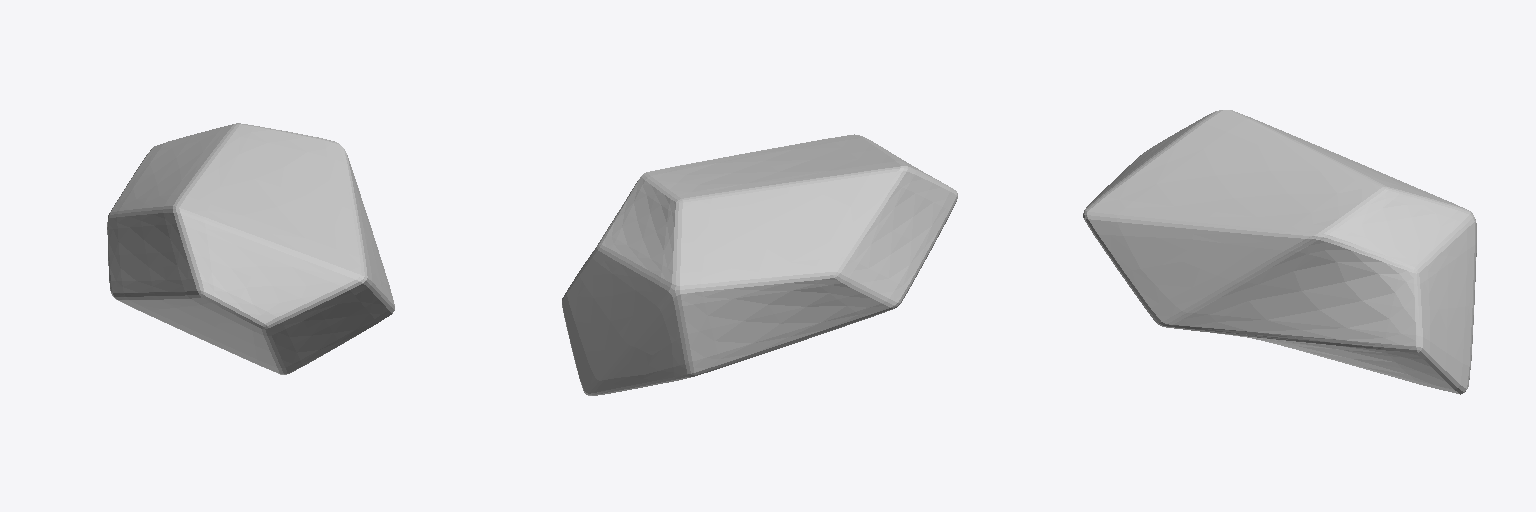
Rendered from rock_tree3_02.obj.
The picture shows the model from 3 angles: view 1: azimuth 30°, elevation 25°; view 2: azimuth 150°, elevation 25°; view 3: azimuth 270°, elevation 25°; orthographic projection.
Visible parts, largest first — view 1: rock_tree3_02 Rocks; view 2: rock_tree3_02 Rocks; view 3: rock_tree3_02 Rocks.
Part boxes in pixels (left/top/right/bottom): rock_tree3_02 Rocks: left=107, top=123, right=394, bottom=374; rock_tree3_02 Rocks: left=562, top=134, right=957, bottom=395; rock_tree3_02 Rocks: left=1083, top=110, right=1476, bottom=394.
Bounding box in the file's own units: 0.6406 × 0.4235 × 0.7984.